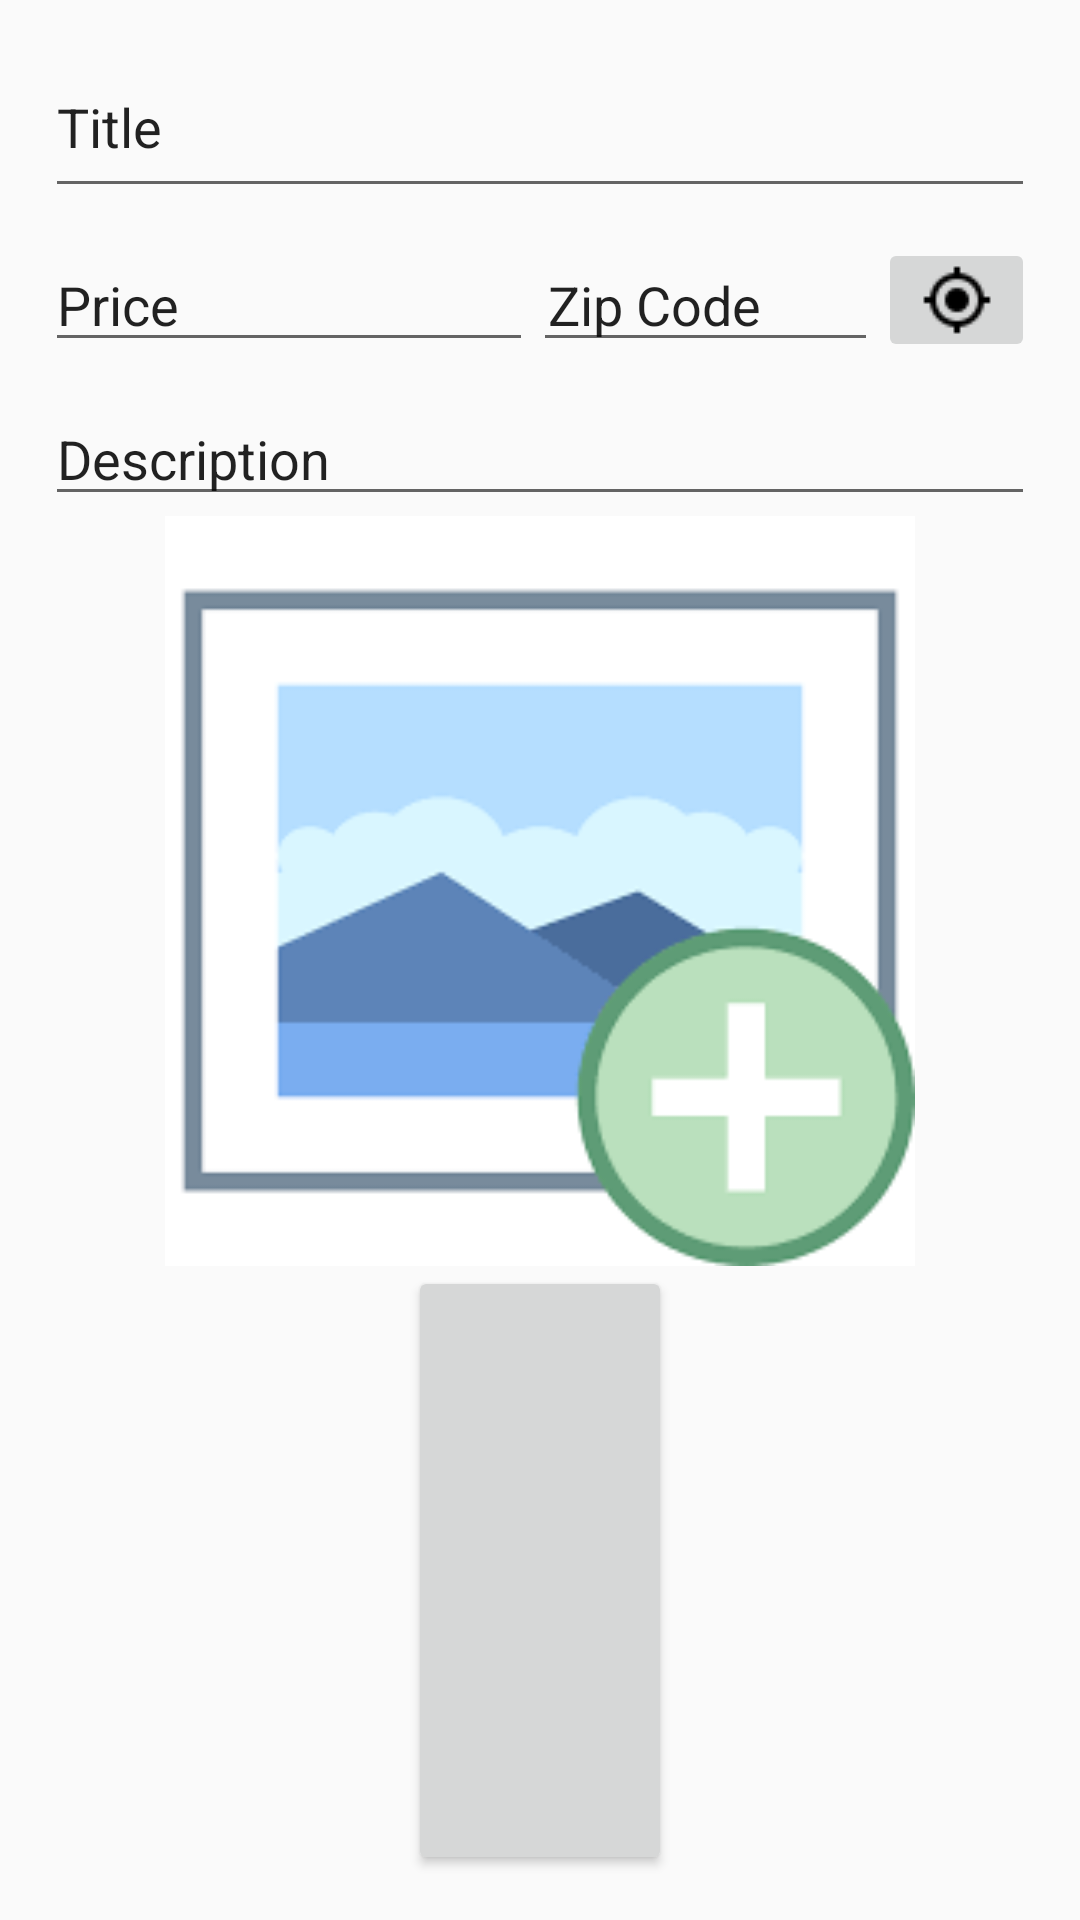

Icon click points for this 1080*1920 phone screenshot, format (x,y):
location: (956,300)
